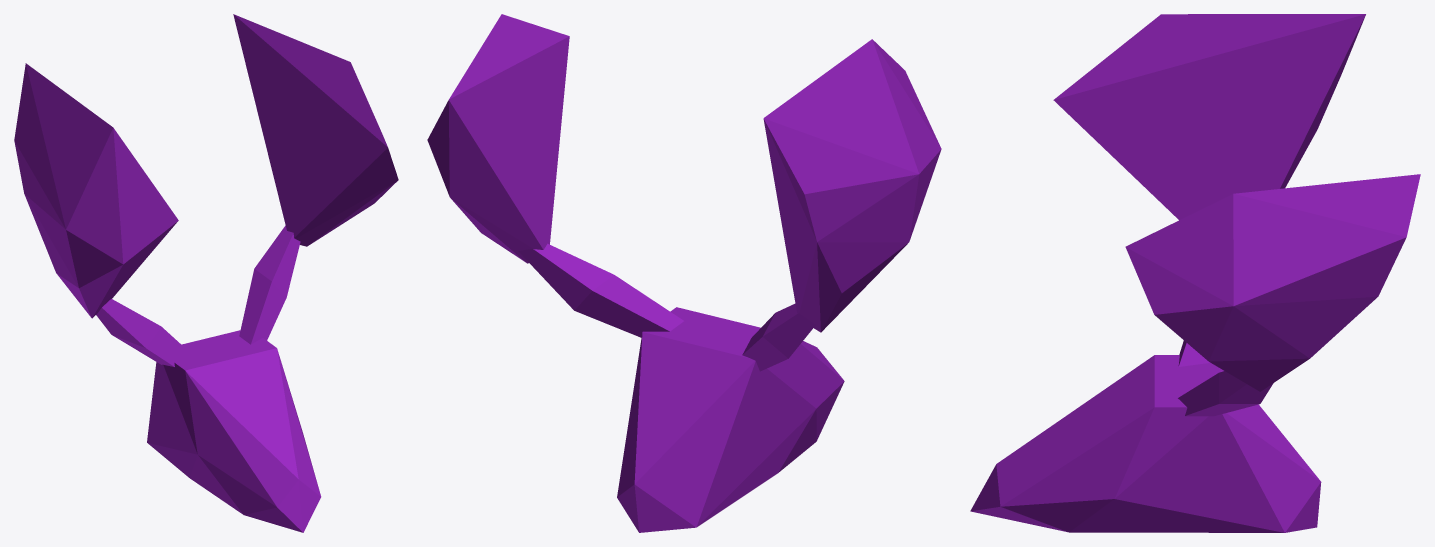
The model's file is Skull_01_Collider_01.FBX.
The picture shows the model from 3 angles, left to right: view 1: azimuth 30°, elevation 25°; view 2: azimuth 150°, elevation 25°; view 3: azimuth 270°, elevation 25°; orthographic projection. The views are drawn at different scales.
Parts seen in each view (by area): view 1: COLLIDER1, COLLIDER3, COLLIDER2, COLLIDER4, COLLIDER5; view 2: COLLIDER1, COLLIDER3, COLLIDER2, COLLIDER4, COLLIDER5; view 3: COLLIDER3, COLLIDER1, COLLIDER2, COLLIDER4.
Part boxes in pixels (<box>): COLLIDER1: <box>147,330,321,532</box>; COLLIDER3: <box>14,63,178,318</box>; COLLIDER2: <box>233,14,398,246</box>; COLLIDER4: <box>239,225,300,344</box>; COLLIDER5: <box>96,299,195,366</box>; COLLIDER1: <box>617,307,844,532</box>; COLLIDER3: <box>763,39,941,332</box>; COLLIDER2: <box>427,14,569,263</box>; COLLIDER4: <box>518,243,683,337</box>; COLLIDER5: <box>742,303,815,371</box>; COLLIDER3: <box>1053,14,1365,220</box>; COLLIDER1: <box>970,355,1321,532</box>; COLLIDER2: <box>1125,174,1420,391</box>; COLLIDER4: <box>1178,371,1273,416</box>.
Bounding box in the file's own units: 33.32 × 35.26 × 32.42.
